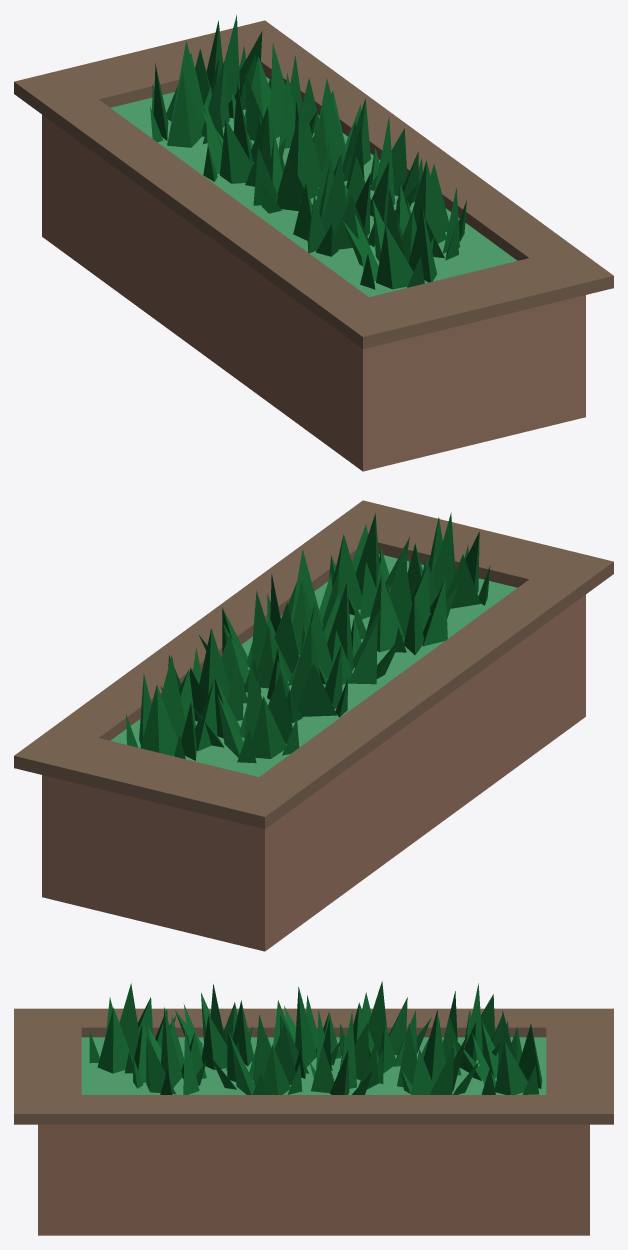
Rendered from Planter with Grass.fbx.
3 views of the same model, one above another, from view 1: azimuth 30°, elevation 25°; view 2: azimuth 150°, elevation 25°; view 3: azimuth 270°, elevation 25° (orthographic). The views are drawn at different scales.
Visible parts, largest first — view 1: Planter_with_Grass; view 2: Planter_with_Grass; view 3: Planter_with_Grass.
Boxes of the visible parts, bbox=[...] form: Planter_with_Grass: bbox=[14, 15, 613, 471]; Planter_with_Grass: bbox=[14, 500, 613, 951]; Planter_with_Grass: bbox=[14, 981, 613, 1235].
Bounding box in the file's own units: 1.86 × 1.59 × 4.48.
